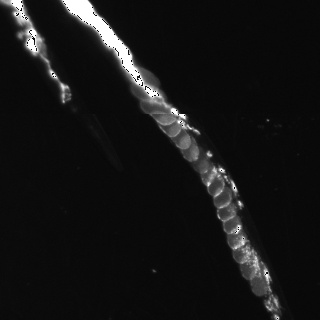embryo: (125, 66, 160, 91), (131, 83, 167, 104), (141, 99, 175, 117), (251, 262, 269, 295), (157, 114, 182, 136), (179, 135, 199, 162), (169, 125, 191, 149), (191, 146, 210, 173), (241, 253, 258, 279), (227, 226, 246, 249), (200, 161, 217, 186), (213, 187, 233, 208), (232, 239, 250, 262), (207, 174, 225, 196), (217, 202, 236, 222), (222, 216, 241, 235), (152, 110, 175, 125)
